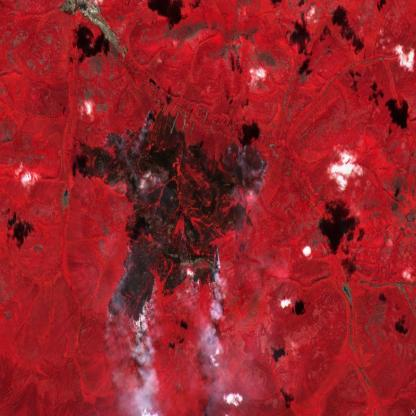fire: (76, 107, 274, 330)
